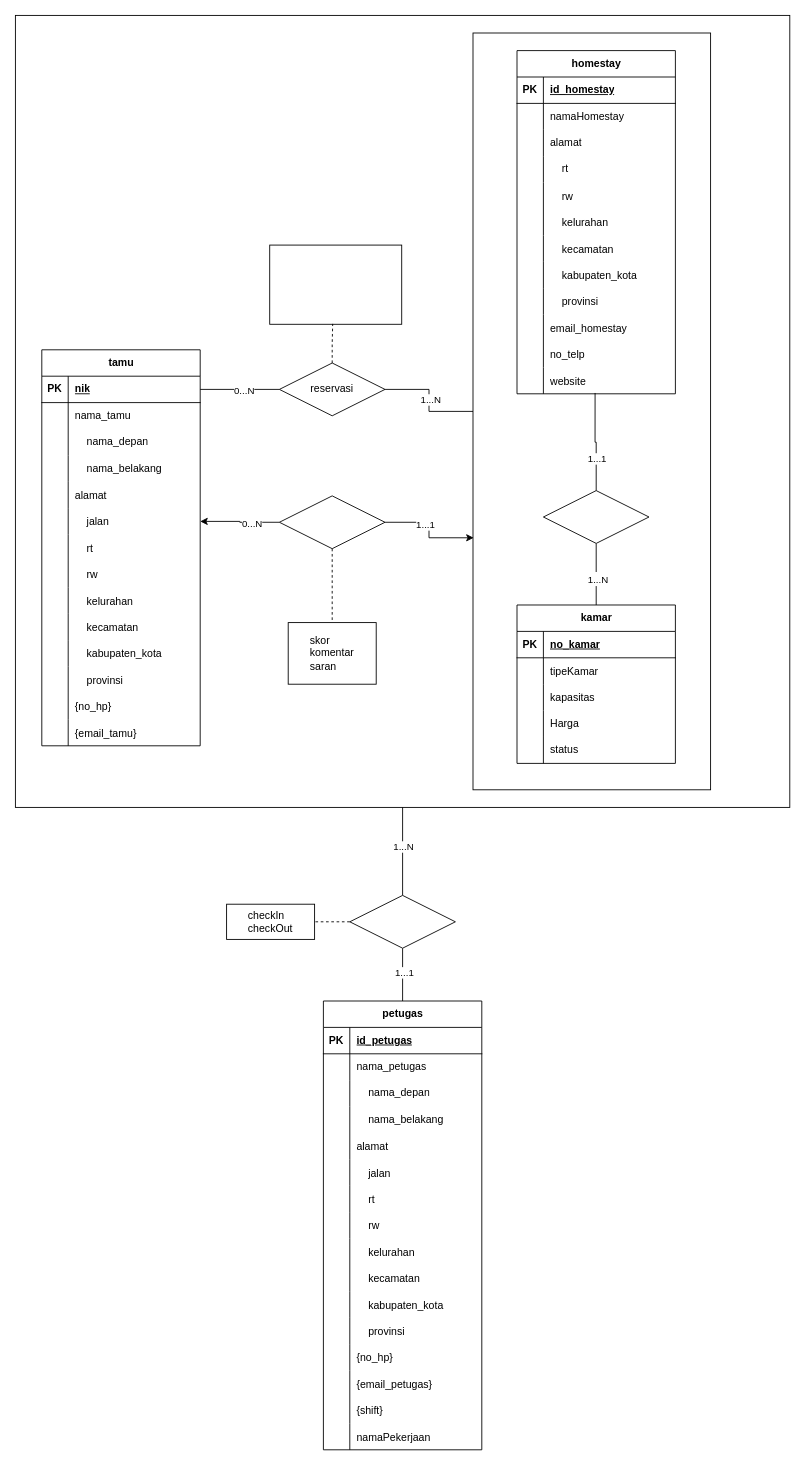
The diagram is 805 pixels wide and 1465 high, and some of its shapes have lost their labels. The centre of each missing label's shape, as x and y in pixels:
konfirmasi: (x=402, y=921)
memiliki: (x=596, y=516)
review: (x=332, y=522)
tanggal_pembayaran {no_kamar} totalBayar caraPembayaran: (x=335, y=284)
